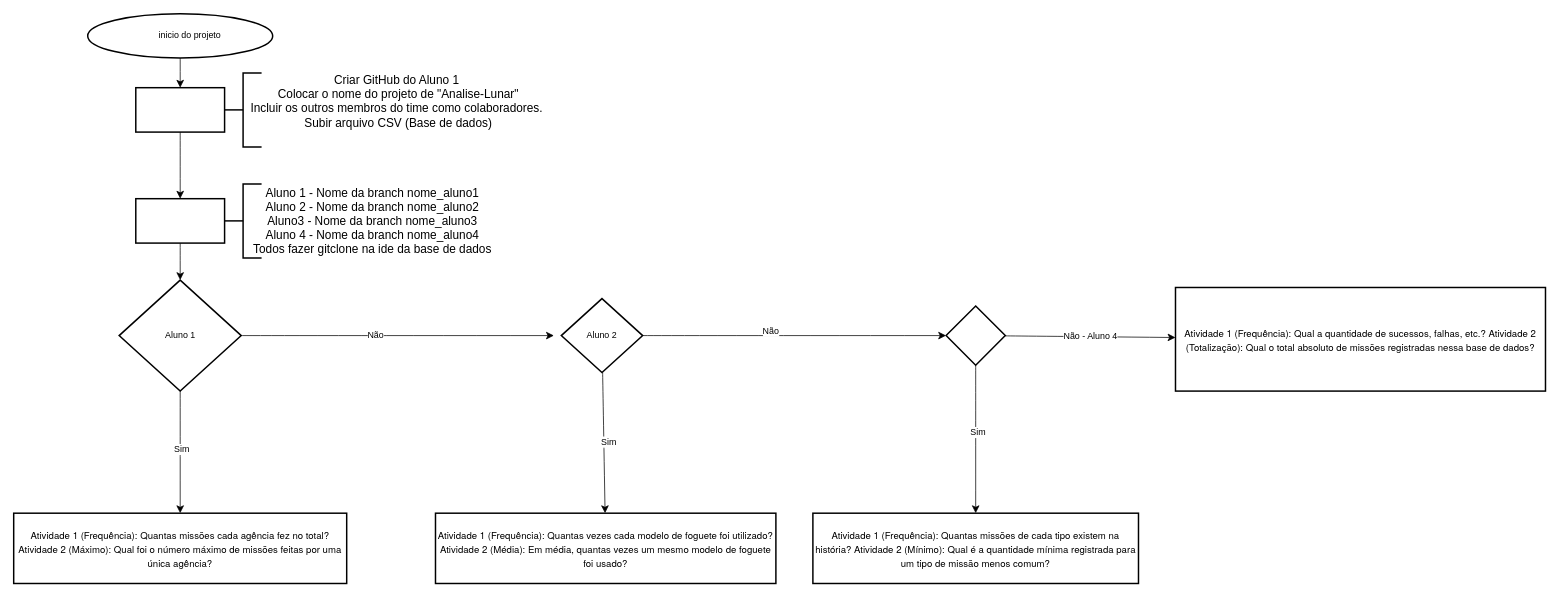
The diagram is 1558 pixels wide and 596 high, and some of its shapes have lost their labels. The box of each missing label's shape, as (x1, y1, x2, y2) in pixels:
Abrir IDE: (135, 198, 225, 243)
Aluno 3: (945, 305, 1006, 366)
Criar GitHub para o Time: (135, 87, 225, 132)
